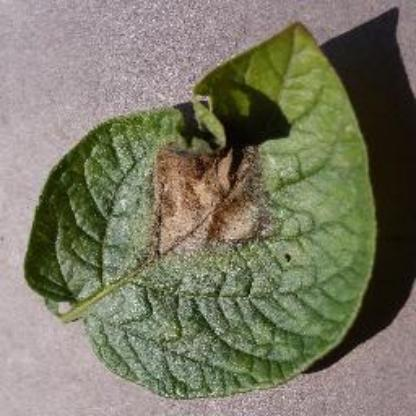Late-Blight: (21, 27, 378, 398)
